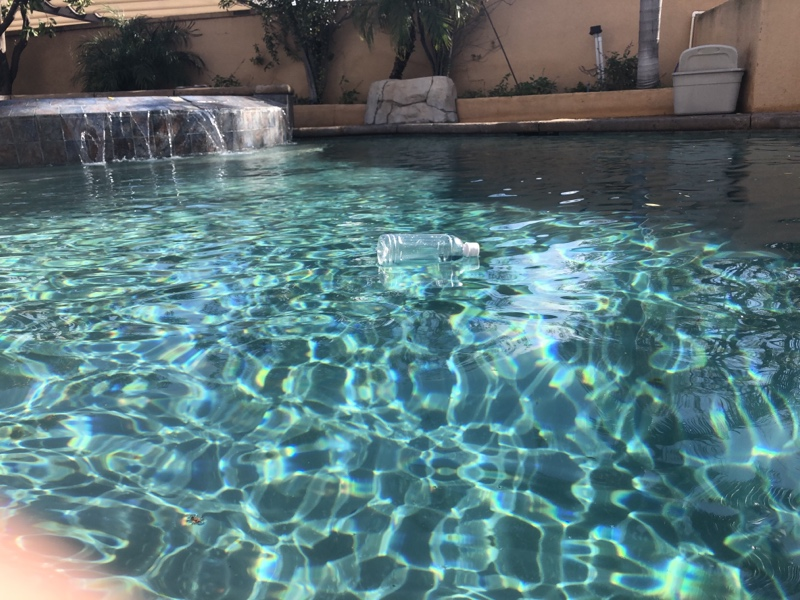Plastic Bottle: (374, 230, 481, 271)
